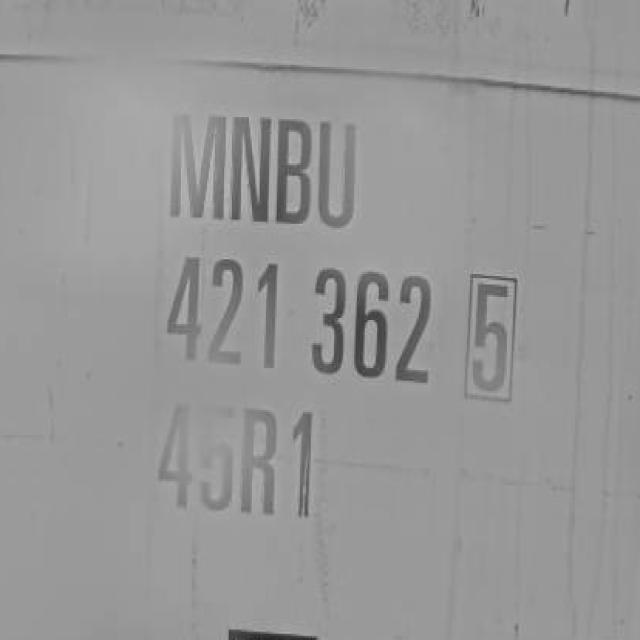dv: (455, 259, 534, 408)
owner: (154, 91, 372, 235)
serial: (153, 241, 442, 392)
size: (146, 397, 331, 539)
